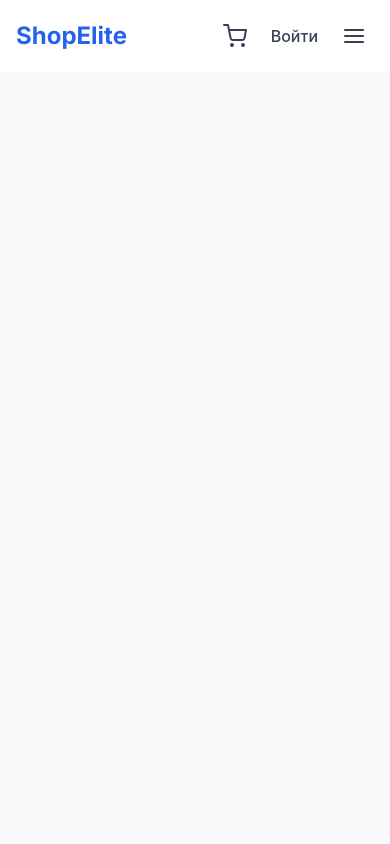
Header Component › должен переключать мобильное меню
Click the button named "Открыть меню": {"x": 354, "y": 36} x1=334 y1=16 x2=374 y2=56
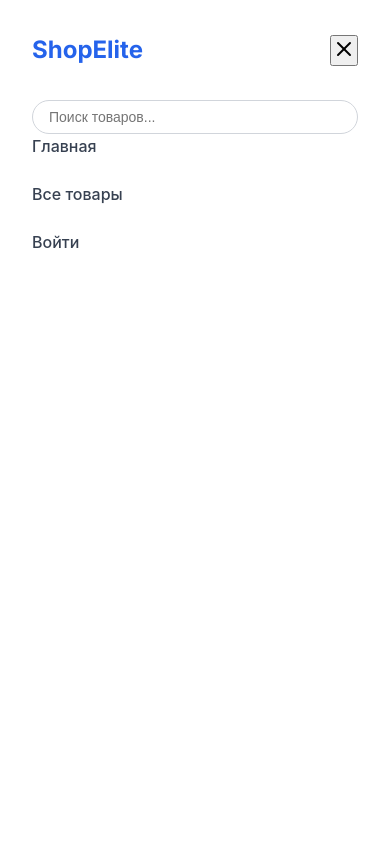
Expected: the button named "Закрыть меню" is shown, x1=330 y1=34 x2=358 y2=66
